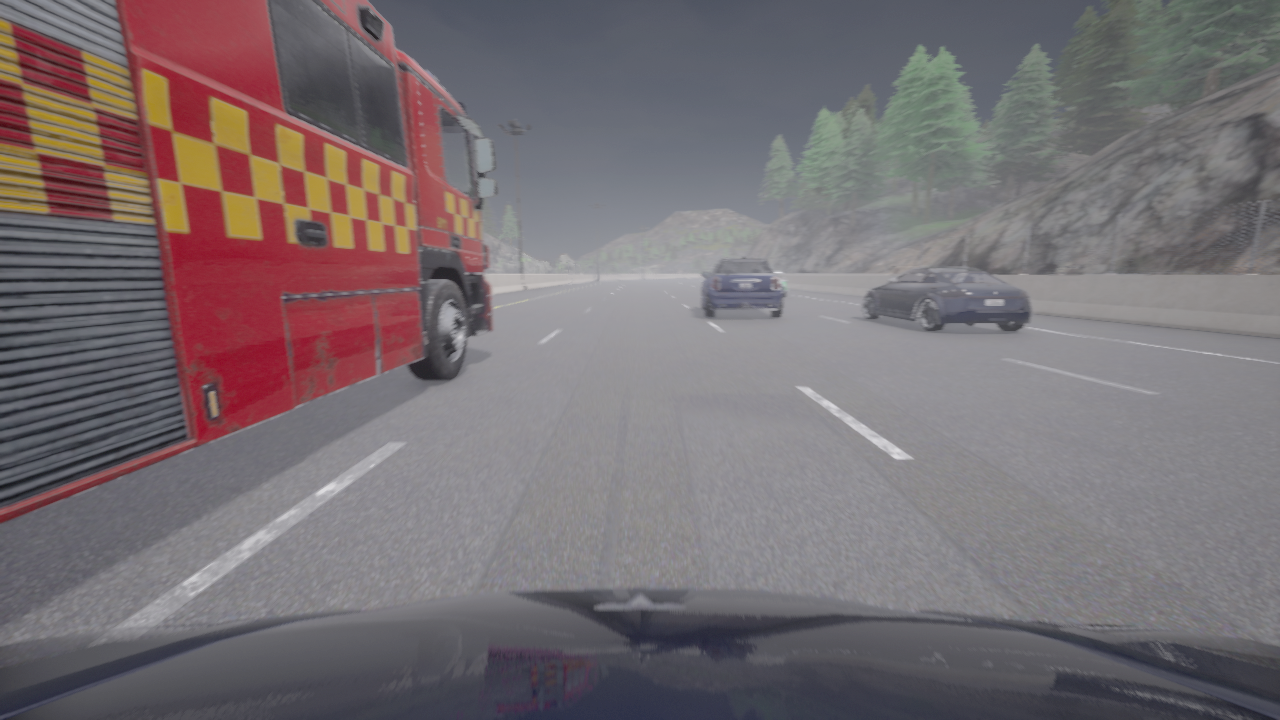cyclist: (0, 588, 1279, 719), (860, 267, 1032, 331), (702, 256, 783, 317), (774, 271, 787, 297)
